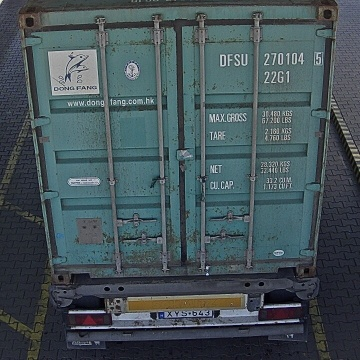serial_id: (220, 52, 323, 66)
